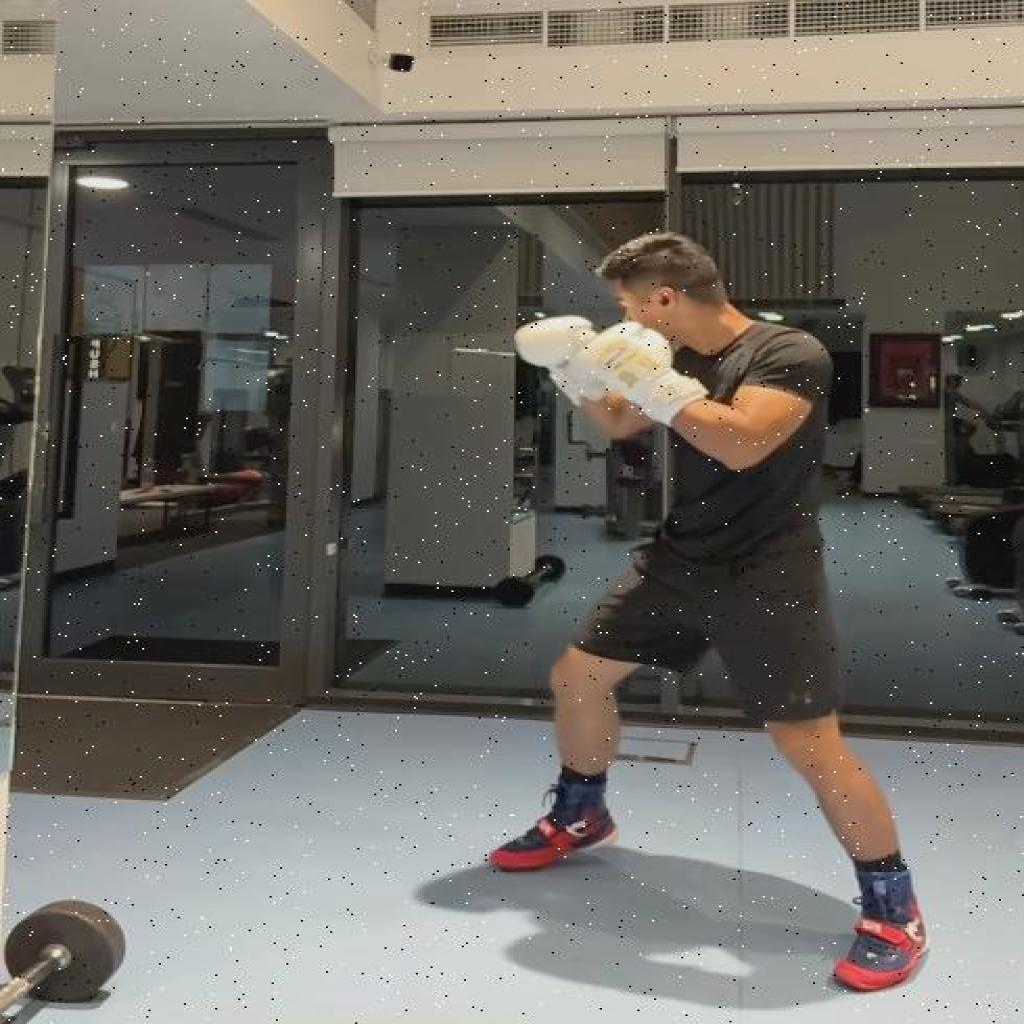no punch: (485, 230, 934, 997)
